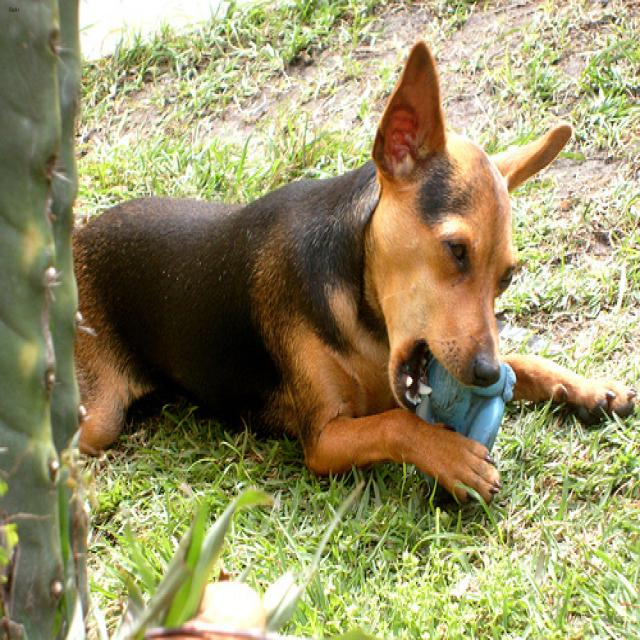dog: (370, 38, 568, 410)
